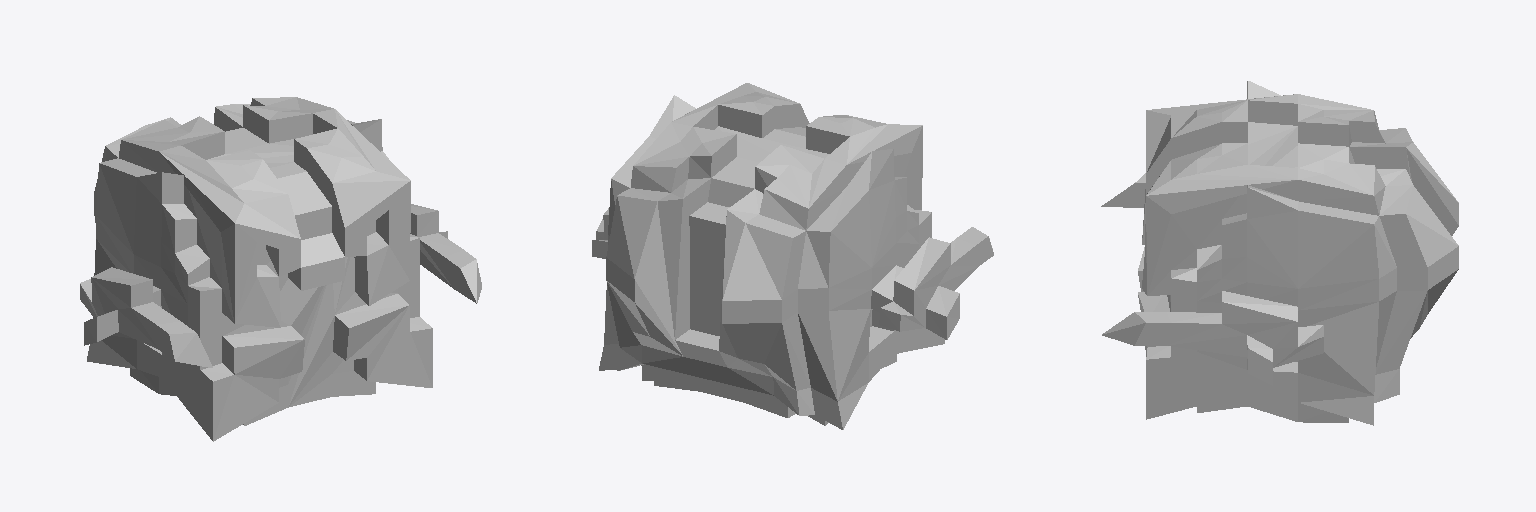
File: Mini-Bot_DoubleShooter_LOD0.obj
3 views of the same model, side by side, from view 1: azimuth 30°, elevation 25°; view 2: azimuth 150°, elevation 25°; view 3: azimuth 270°, elevation 25° (orthographic).
Parts seen in each view (by area): view 1: Mini-Bot_DoubleShooter_LOD0; view 2: Mini-Bot_DoubleShooter_LOD0; view 3: Mini-Bot_DoubleShooter_LOD0.
Part boxes in pixels (x1,y1,x2,y2): Mini-Bot_DoubleShooter_LOD0: (80, 97, 481, 441); Mini-Bot_DoubleShooter_LOD0: (592, 83, 993, 429); Mini-Bot_DoubleShooter_LOD0: (1101, 81, 1458, 425).
Size of the model in its own units: 1.6 by 1.08 by 1.41.